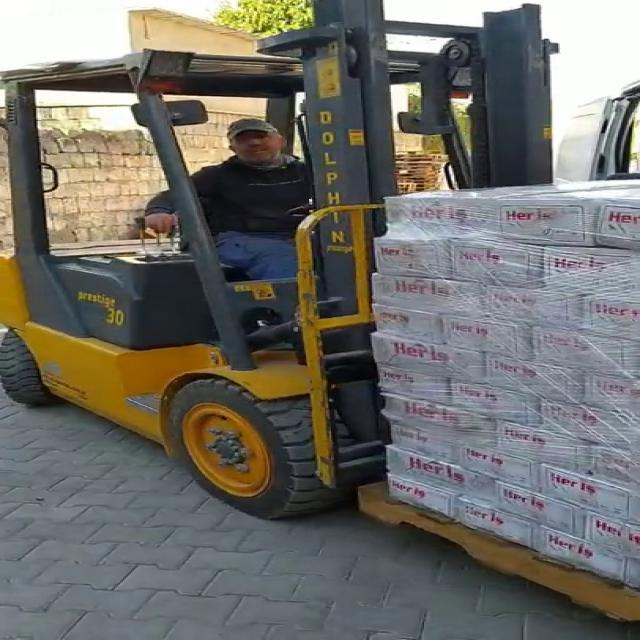box: (372, 178, 640, 606)
forklift: (0, 40, 574, 531)
person: (120, 103, 336, 305)
